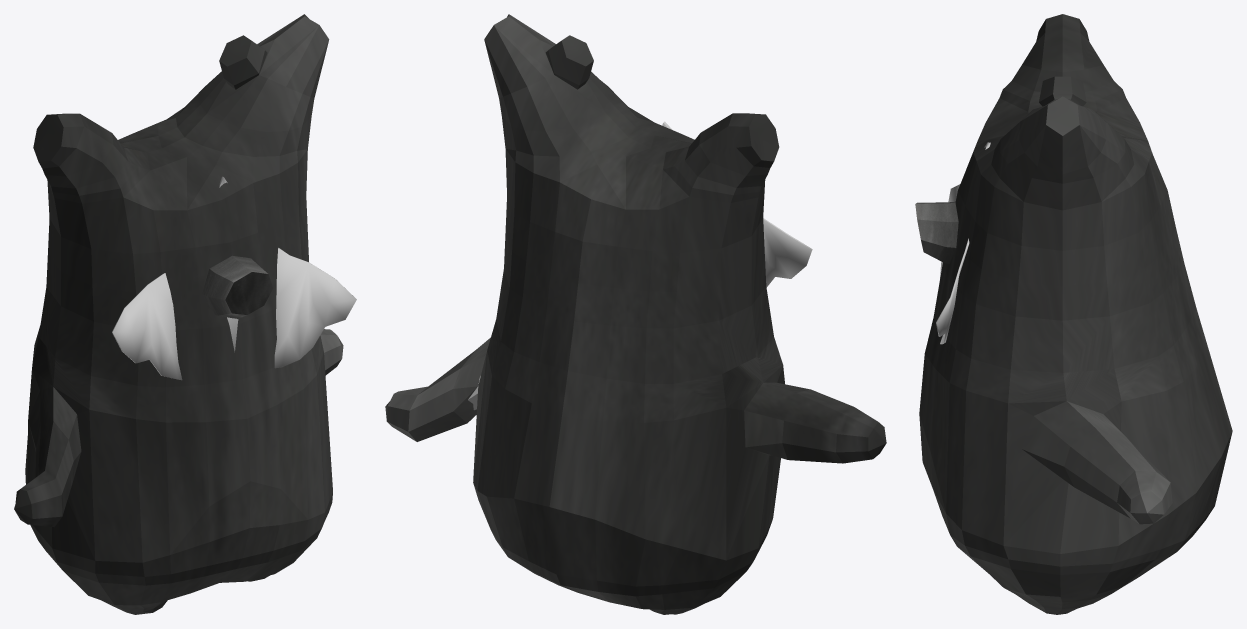
The model's file is frame_0046.obj.
3 renders of one model, left to right at view 1: azimuth 30°, elevation 25°; view 2: azimuth 150°, elevation 25°; view 3: azimuth 270°, elevation 25°, orthographic.
Visible parts, largest first — view 1: korok, leaf, nose; view 2: korok, leaf; view 3: korok, nose, leaf.
Boxes of the visible parts, x1,y1,x2,y2 form: korok: (14,14,343,614); leaf: (112,176,356,380); nose: (202,255,273,319); korok: (385,14,886,614); leaf: (662,121,812,287); korok: (919,14,1232,614); nose: (915,201,958,263); leaf: (936,142,990,344).
Size of the model in its own units: 1.78 by 2.27 by 1.18.
